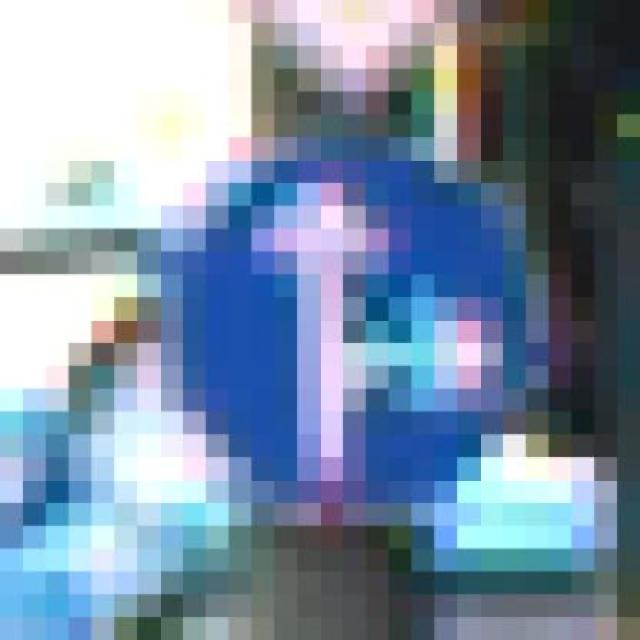Go Straight or Turn Right: (137, 91, 572, 548)
